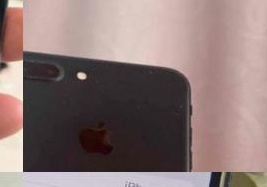scratch: (23, 50, 74, 87), (84, 61, 109, 84), (173, 100, 187, 112), (143, 68, 155, 78), (56, 96, 68, 106)
